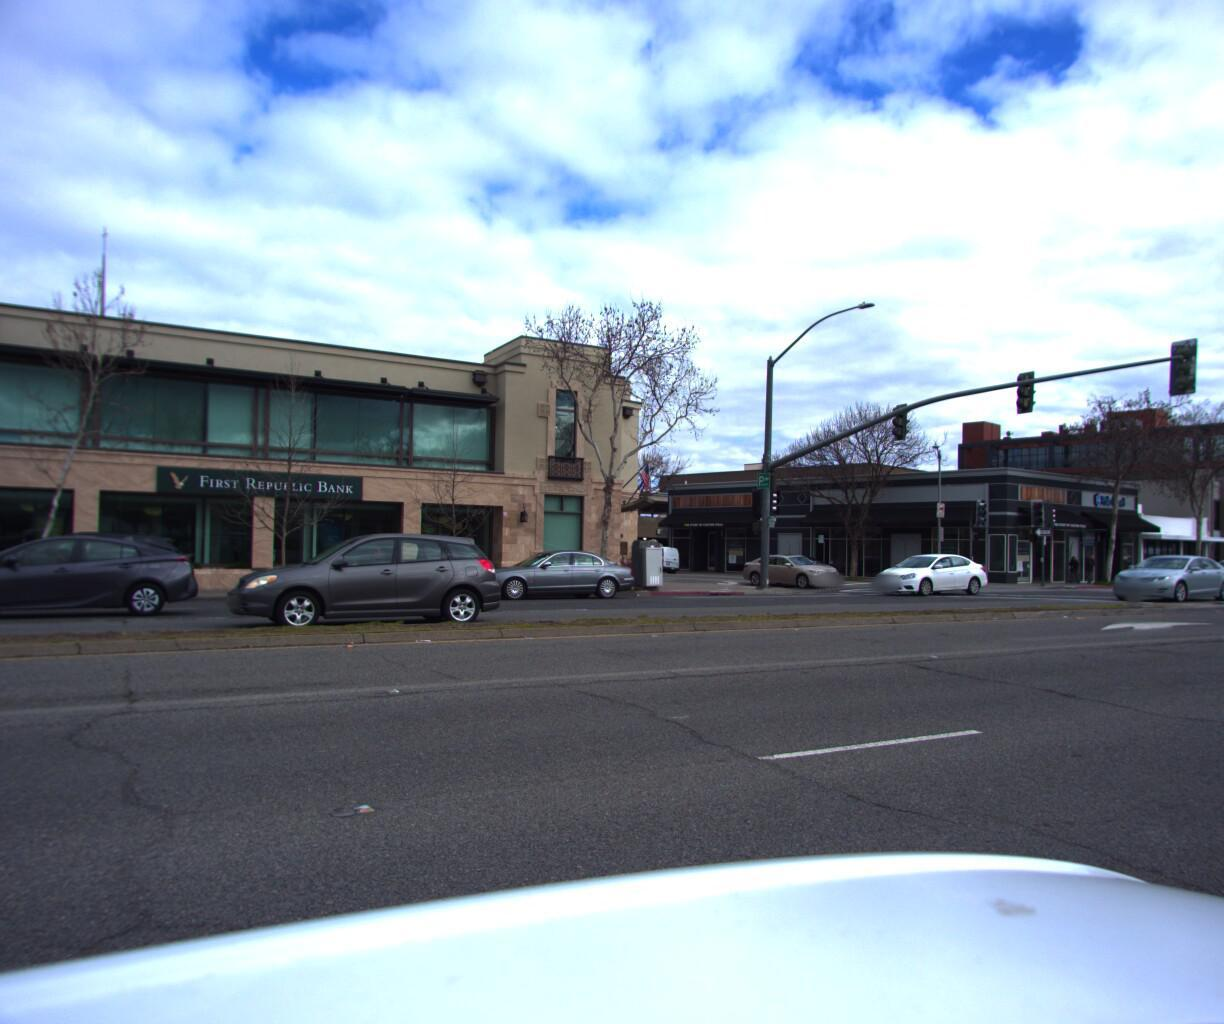car: (215, 526, 502, 633), (468, 544, 644, 599), (463, 544, 631, 597), (1090, 546, 1224, 599), (869, 546, 994, 591), (732, 546, 851, 585), (612, 538, 688, 571), (1183, 549, 1224, 588)
